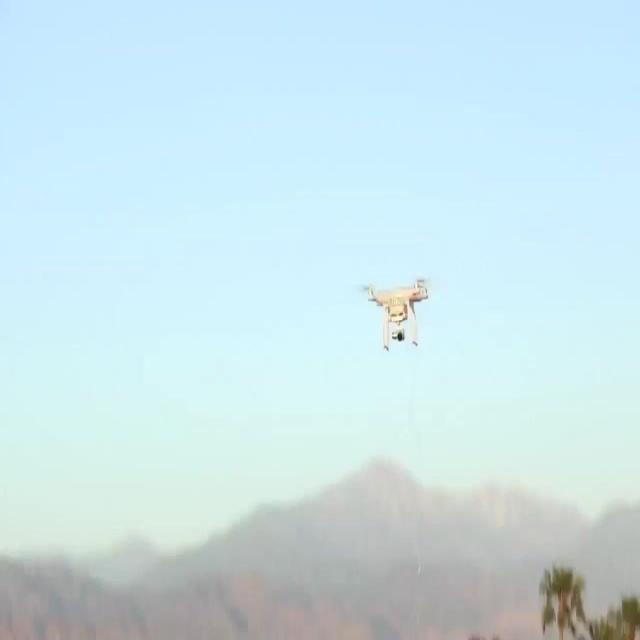UAV: (359, 276, 429, 352)
